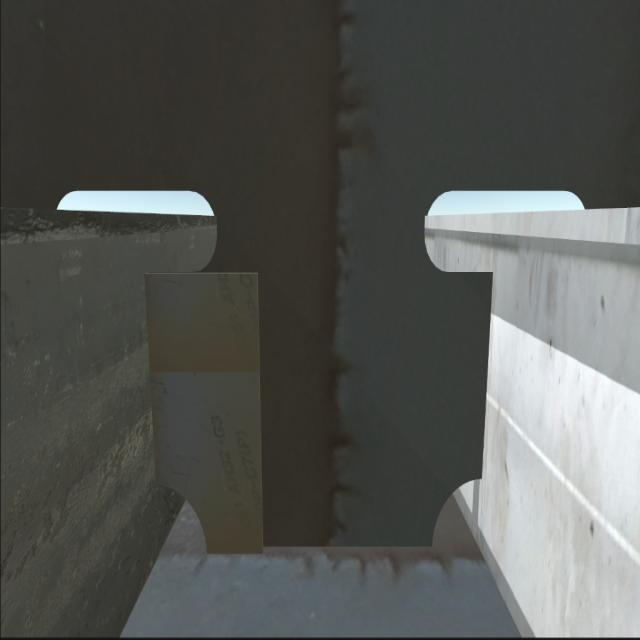fillet_hole: (428, 478, 484, 552), (160, 491, 208, 553)
fillet_yong_jeop_jang: (205, 542, 436, 553)
longi_yong_jeop_jang: (138, 269, 168, 489), (482, 270, 499, 480)
plate_CP01: (150, 271, 262, 549)
